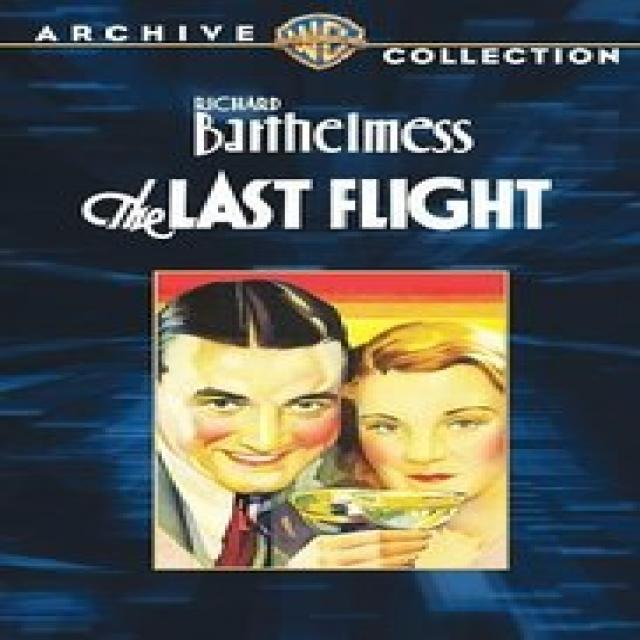movie-judul: (75, 77, 573, 246)
picture: (151, 268, 512, 572)
